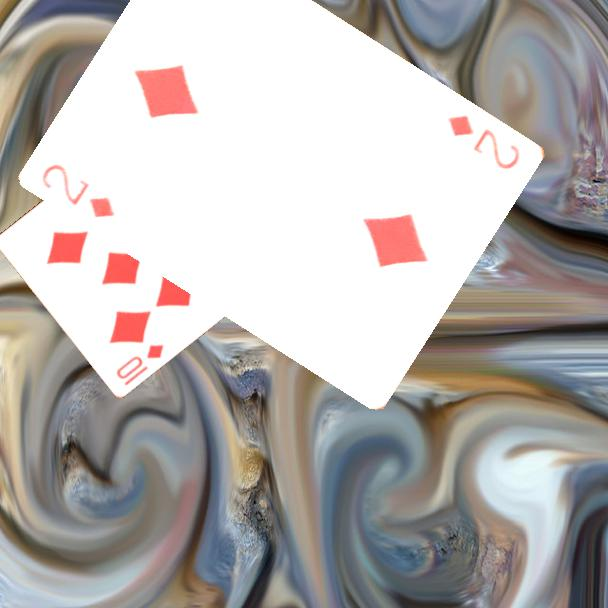d02: (444, 111, 524, 173), (38, 160, 118, 221)
d10: (113, 340, 167, 388)
